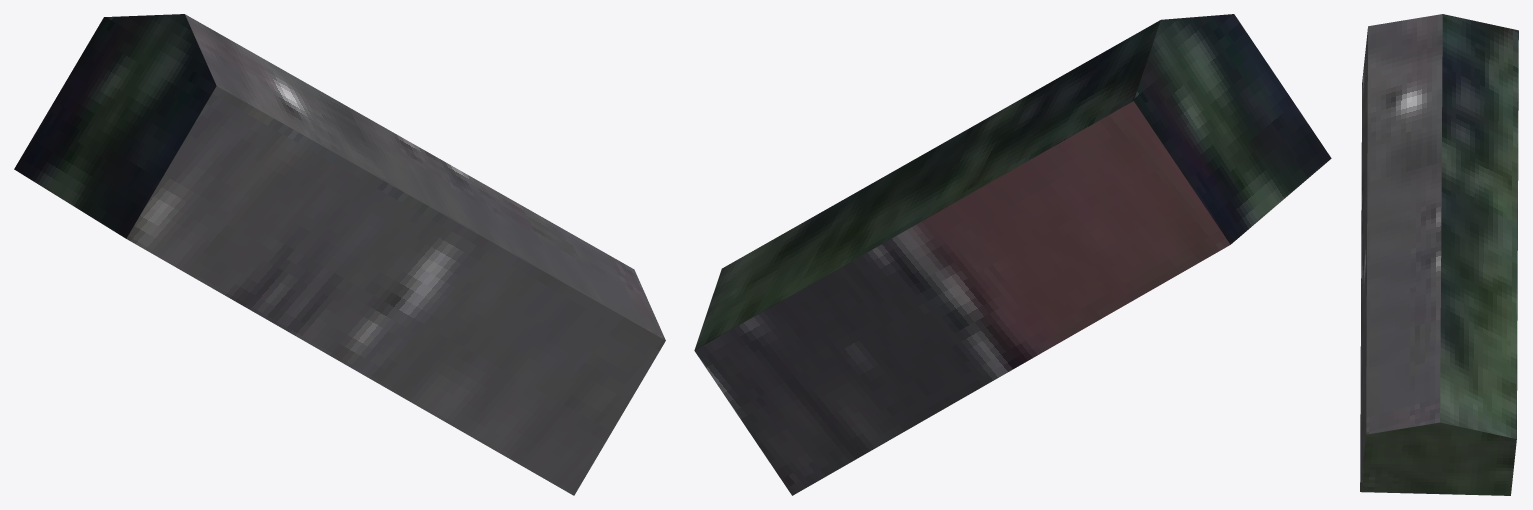
3 views of the same model, side by side, from view 1: azimuth 30°, elevation 25°; view 2: azimuth 150°, elevation 25°; view 3: azimuth 270°, elevation 25° (orthographic). The views are drawn at different scales.
Visible parts, largest first — view 1: BAG_0599100010074686 (×2); view 2: BAG_0599100010074686 (×2); view 3: BAG_0599100010074686 (×2).
Boxes of the visible parts, x1=… form: BAG_0599100010074686 (×2): x1=14, y1=14, x2=665, y2=495; BAG_0599100010074686 (×2): x1=694, y1=14, x2=1331, y2=495; BAG_0599100010074686 (×2): x1=1360, y1=14, x2=1518, y2=495.
Size of the model in its own units: 8.26 by 7.32 by 2.84.
Materials: 3 (2 with a texture image).
